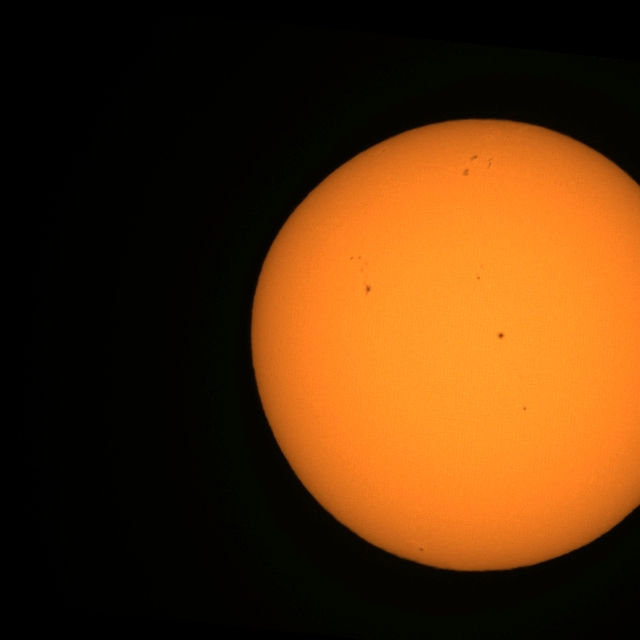sunspot: (461, 154, 494, 178), (486, 156, 494, 170), (349, 255, 362, 262), (364, 284, 372, 295), (462, 168, 470, 177), (497, 331, 505, 340), (469, 154, 478, 161), (358, 266, 364, 274), (476, 275, 482, 281), (418, 546, 424, 552), (522, 406, 528, 411)
